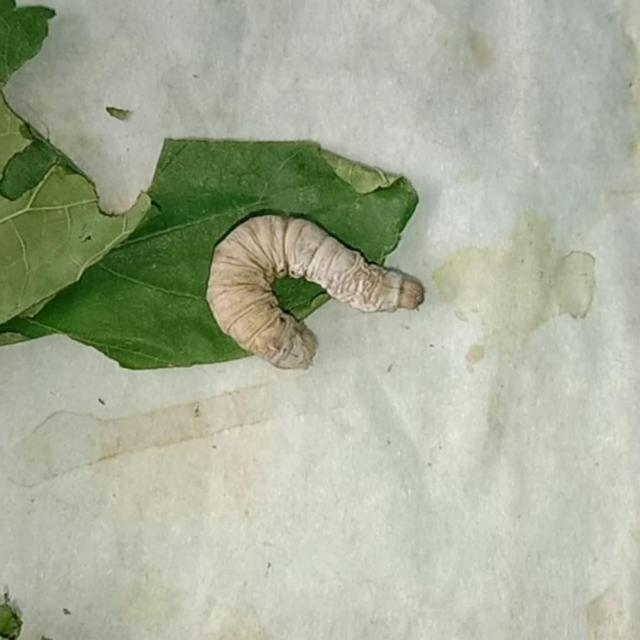Grasserie: (191, 203, 431, 377)
